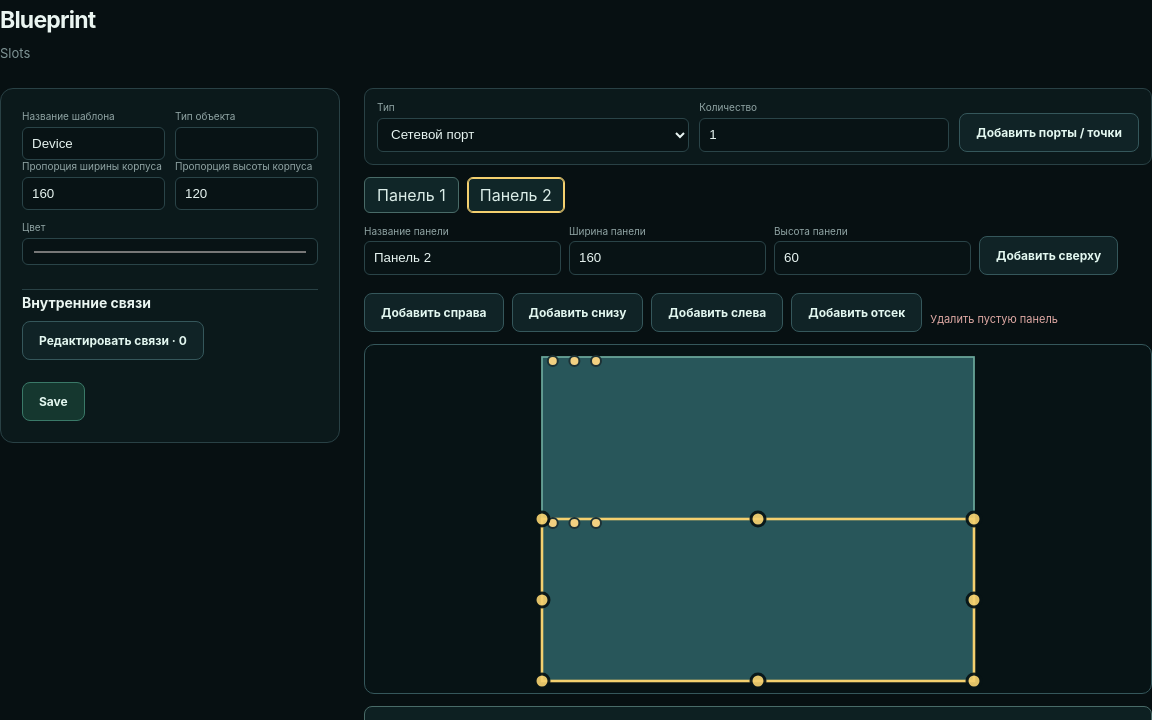
internal links on demand › keeps 0 links out of the workspace and renders both selectors per dialog row
This screenshot has width=1152, height=720.
Expected: the button "Добавить связь" is not shown
Click the button "Редактировать связи · 0" at (113, 340), box [22,320,204,360]
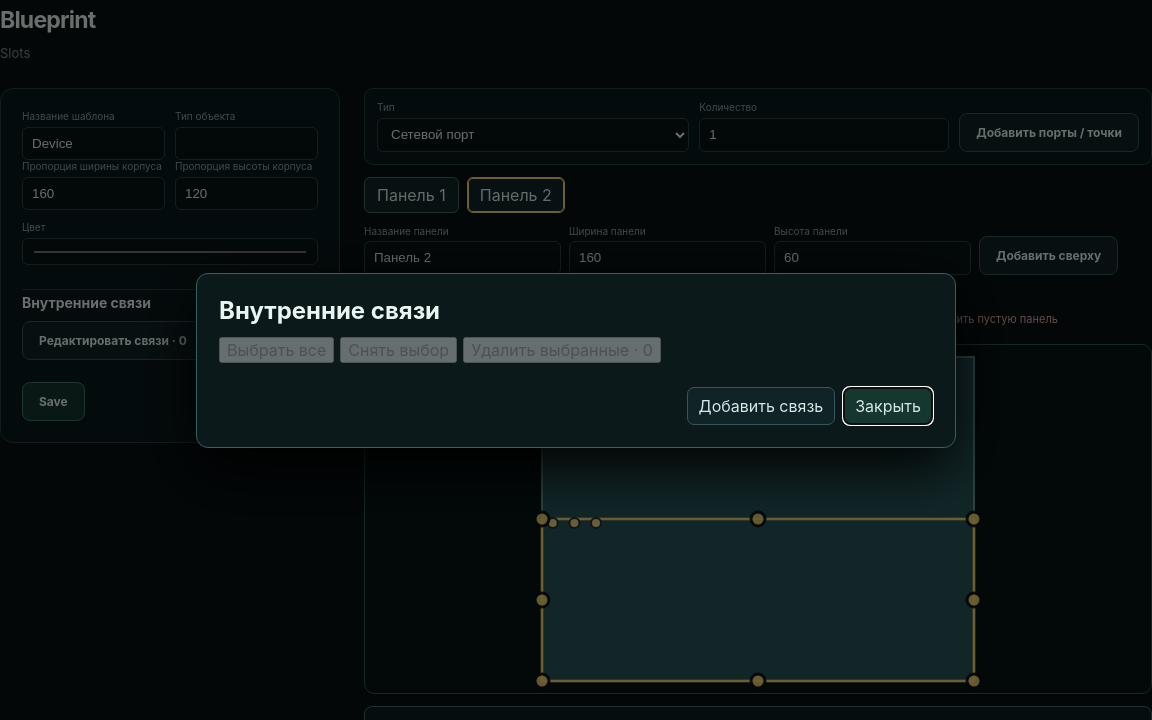
Click the button "Закрыть" at (888, 406), box [843,386,933,424]
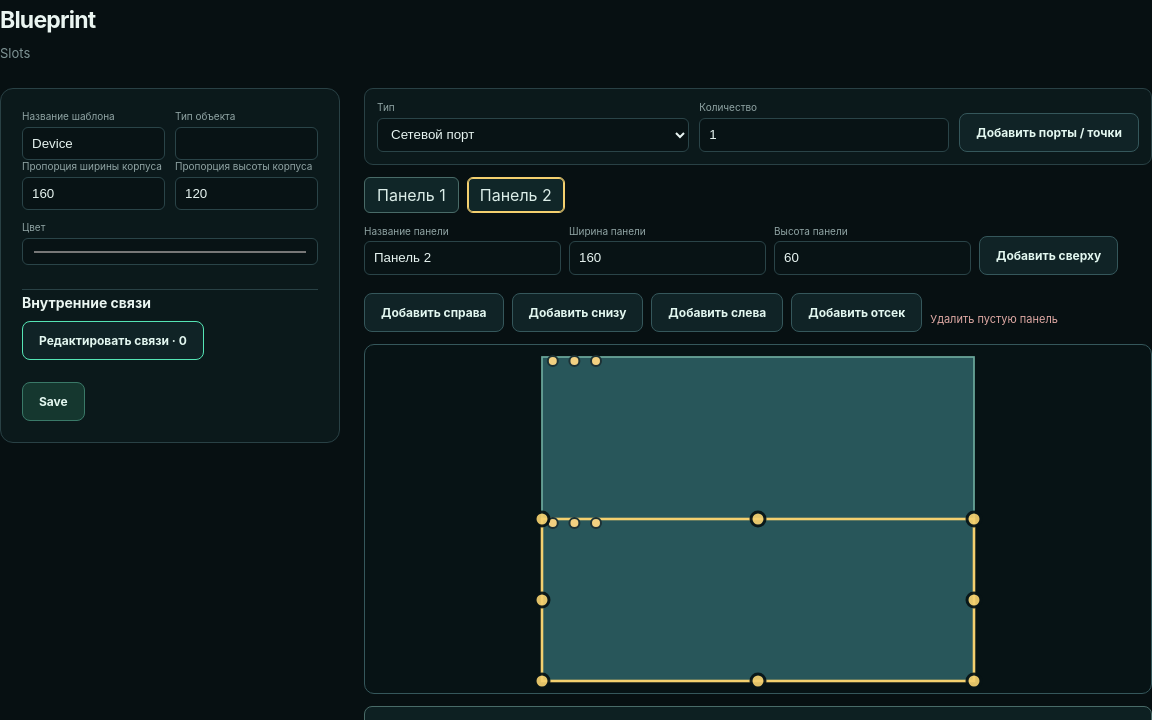
Result: the dialog is gone
